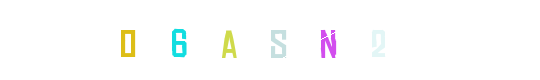2: (288, 0, 368, 80)
6: (138, 0, 218, 80)
A: (189, 0, 269, 80)
N: (231, 0, 311, 80)
O: (88, 0, 168, 80)
S: (229, 0, 309, 80)
